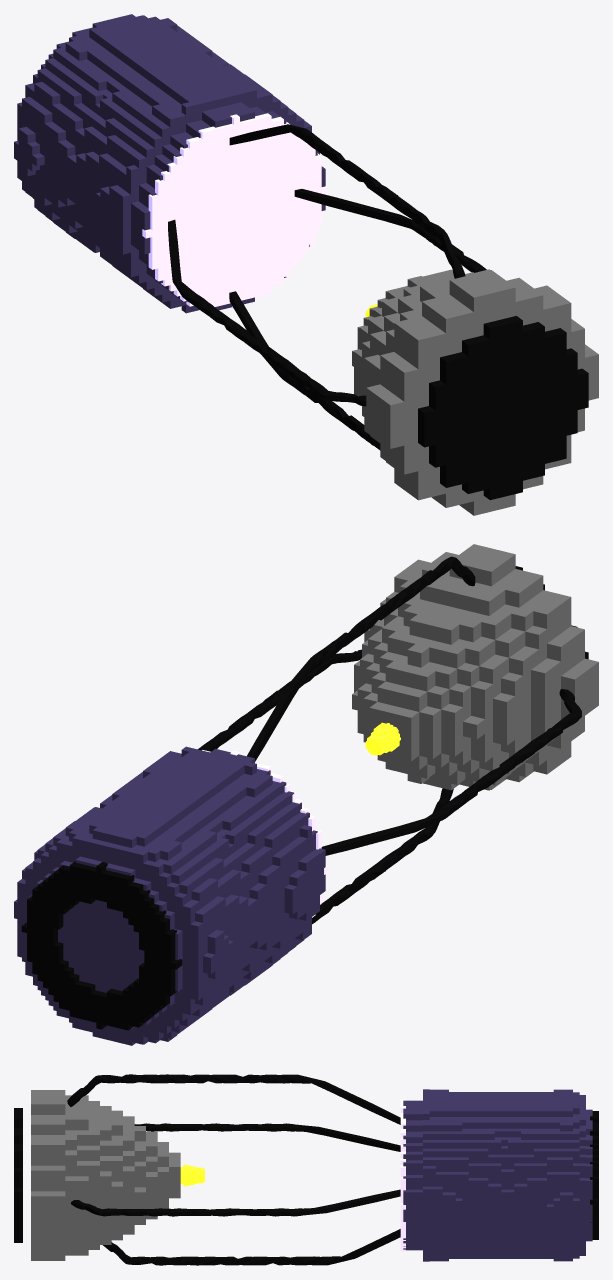
File: engel10.fbx
The picture shows the model from 3 angles, top to bottom: view 1: azimuth 30°, elevation 25°; view 2: azimuth 150°, elevation 25°; view 3: azimuth 270°, elevation 25°; orthographic projection. The views are drawn at different scales.
Visible parts, largest first — view 1: Cylinder, Cylinder.006, Cone, Cone.002, Cylinder.001, Cylinder.004, Cylinder.003, Cylinder.002; view 2: Cylinder, Cone, Cylinder.005, Cylinder.001, Cylinder.004, Cylinder.002, Cylinder.003, Cone.001, Cylinder.006; view 3: Cylinder, Cone, Cylinder.001, Cylinder.002, Cylinder.003, Cylinder.004, Cone.002, Cylinder.005, Cylinder.006, Cone.001.
Part boxes in pixels (x1,y1,x2,y2): Cylinder: [14, 14, 325, 313]; Cylinder.006: [142, 113, 327, 308]; Cone: [352, 269, 598, 515]; Cone.002: [418, 316, 588, 500]; Cylinder.001: [229, 124, 465, 278]; Cylinder.004: [168, 219, 366, 406]; Cylinder.003: [294, 189, 486, 272]; Cylinder.002: [229, 291, 380, 450]; Cylinder: [14, 746, 325, 1045]; Cone: [352, 544, 598, 790]; Cylinder.005: [21, 861, 182, 1030]; Cylinder.001: [247, 556, 475, 761]; Cylinder.004: [321, 689, 581, 855]; Cylinder.002: [312, 788, 453, 924]; Cylinder.003: [198, 649, 361, 751]; Cone.001: [365, 722, 400, 755]; Cylinder.006: [202, 750, 327, 917]; Cylinder: [403, 1089, 592, 1261]; Cone: [31, 1090, 180, 1260]; Cylinder.001: [67, 1074, 400, 1124]; Cylinder.002: [103, 1229, 400, 1265]; Cylinder.003: [71, 1189, 400, 1216]; Cylinder.004: [134, 1123, 400, 1151]; Cone.002: [14, 1108, 22, 1242]; Cylinder.005: [590, 1111, 598, 1239]; Cylinder.006: [400, 1099, 405, 1251]; Cone.001: [180, 1164, 204, 1186].
Bounding box in the file's own units: 253 × 253 × 705.
